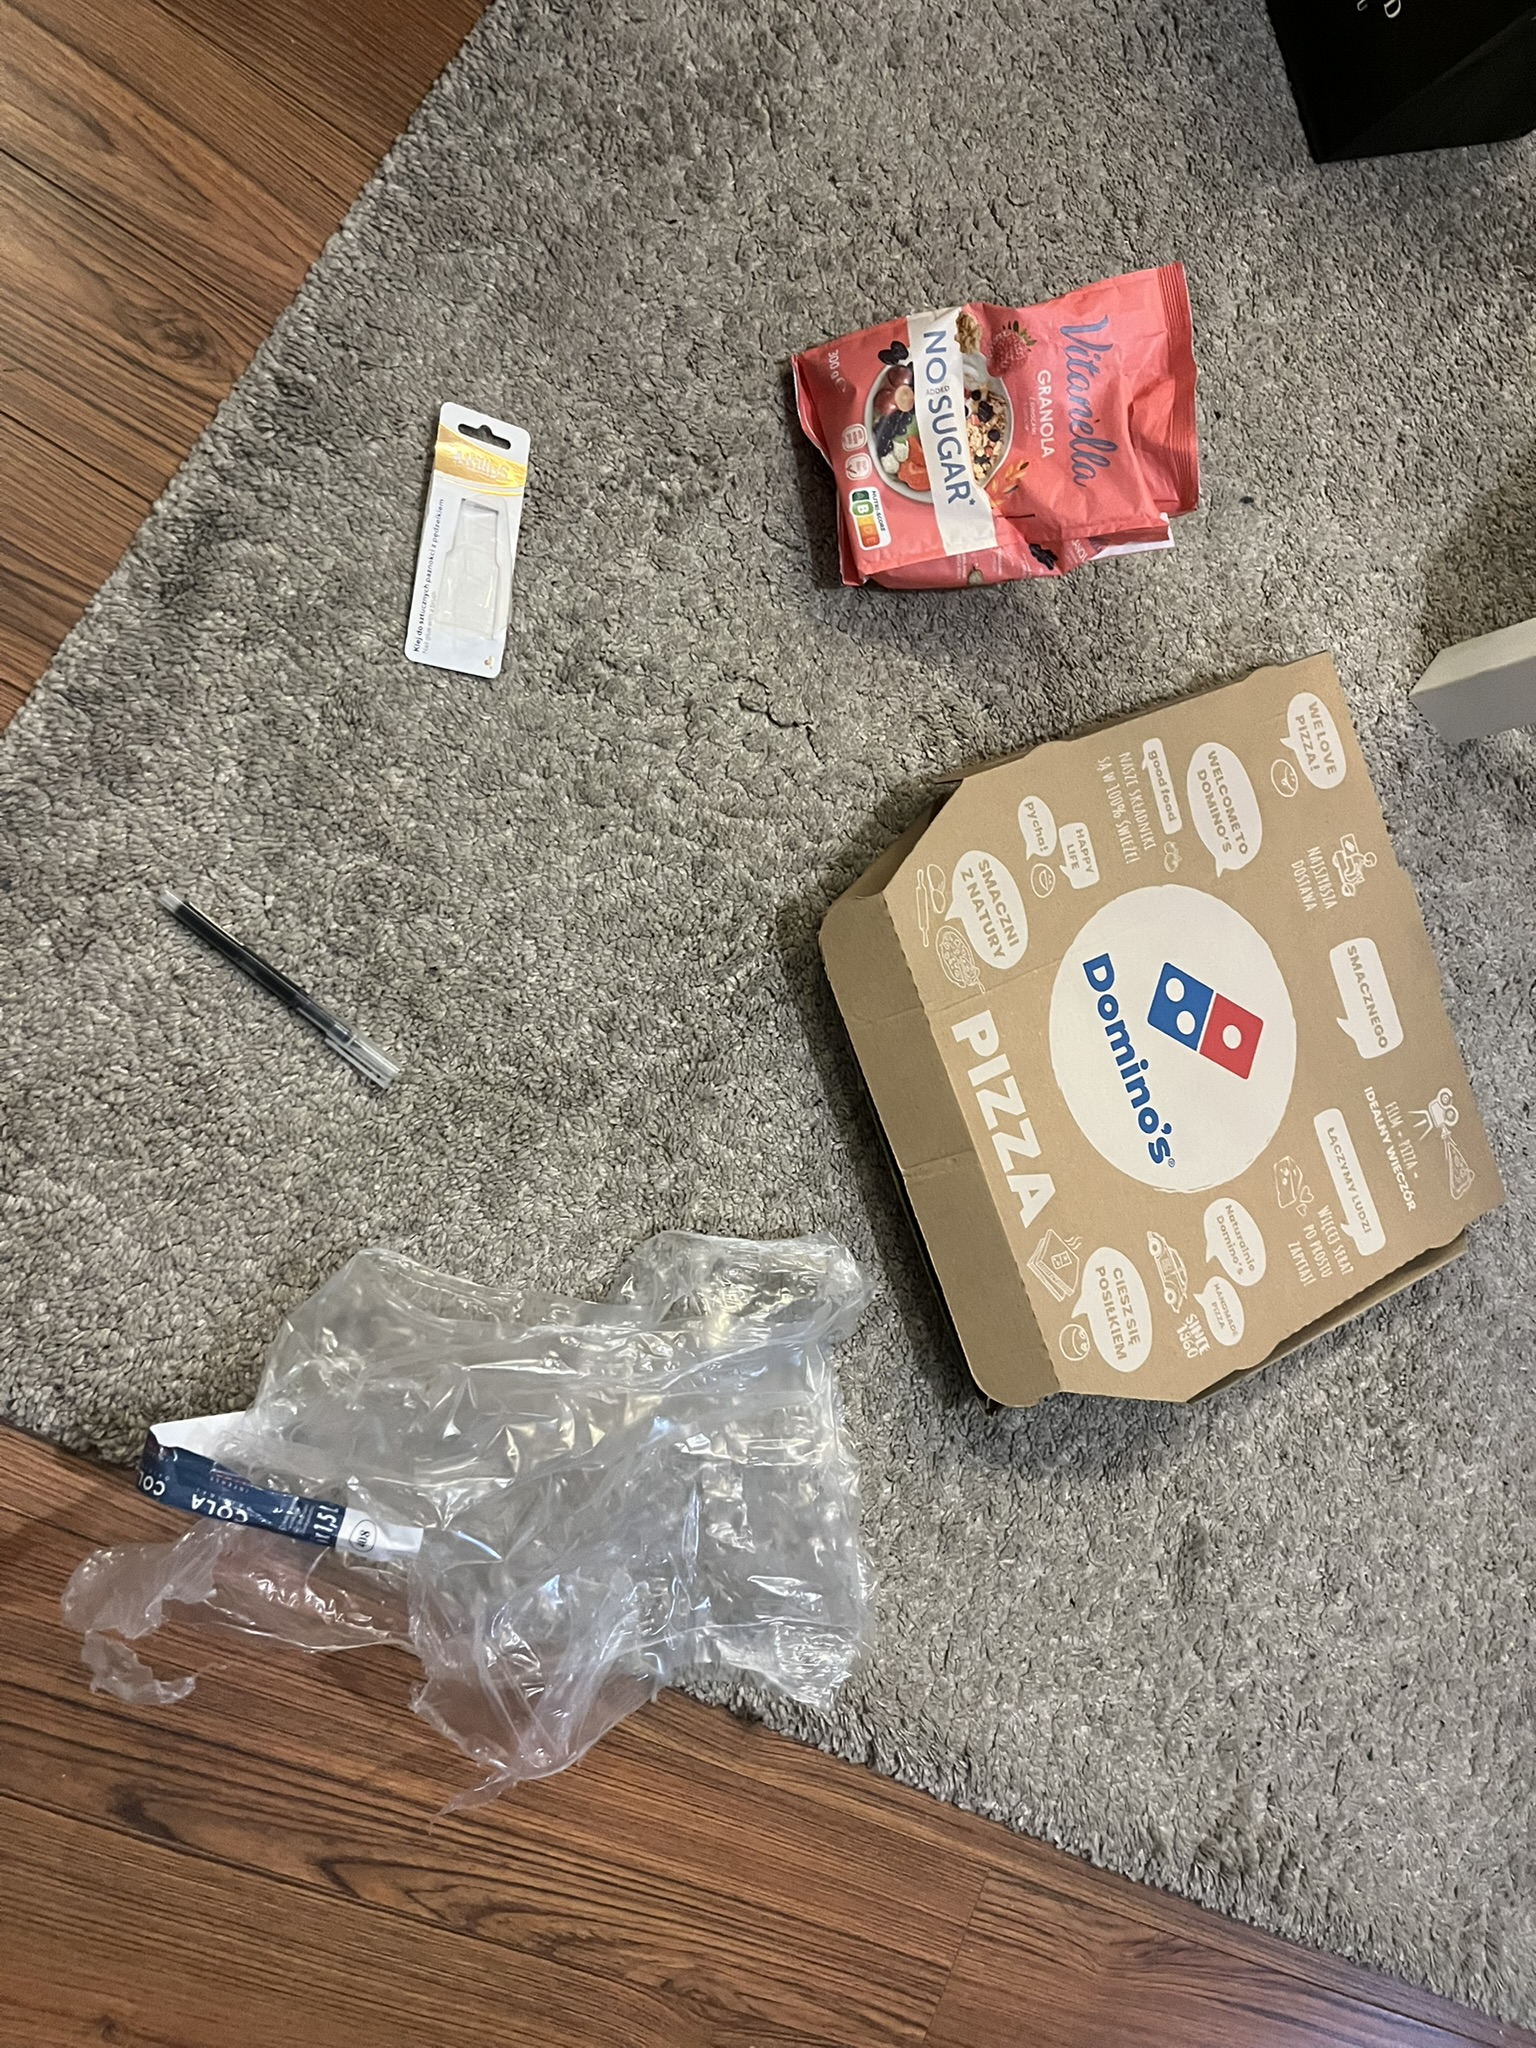PLASTIC: (61, 1206, 884, 1866), (753, 326, 1215, 626), (431, 393, 547, 681), (147, 856, 494, 905)
